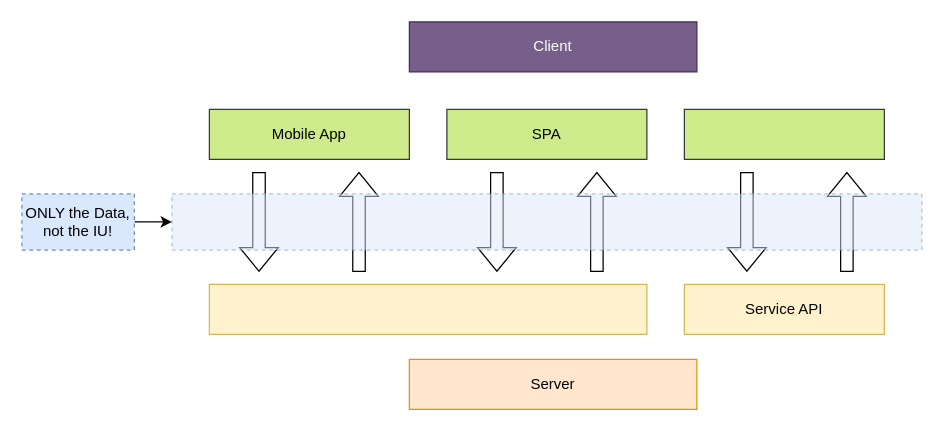
Some shapes in this 944 by 431 pixel diagram are drawn without their labels. The centre of each missing label's shape, as x and y in pixels:
Any App: the point at 783,133
App Backend API: the point at 427,308
Data: the point at 546,221
